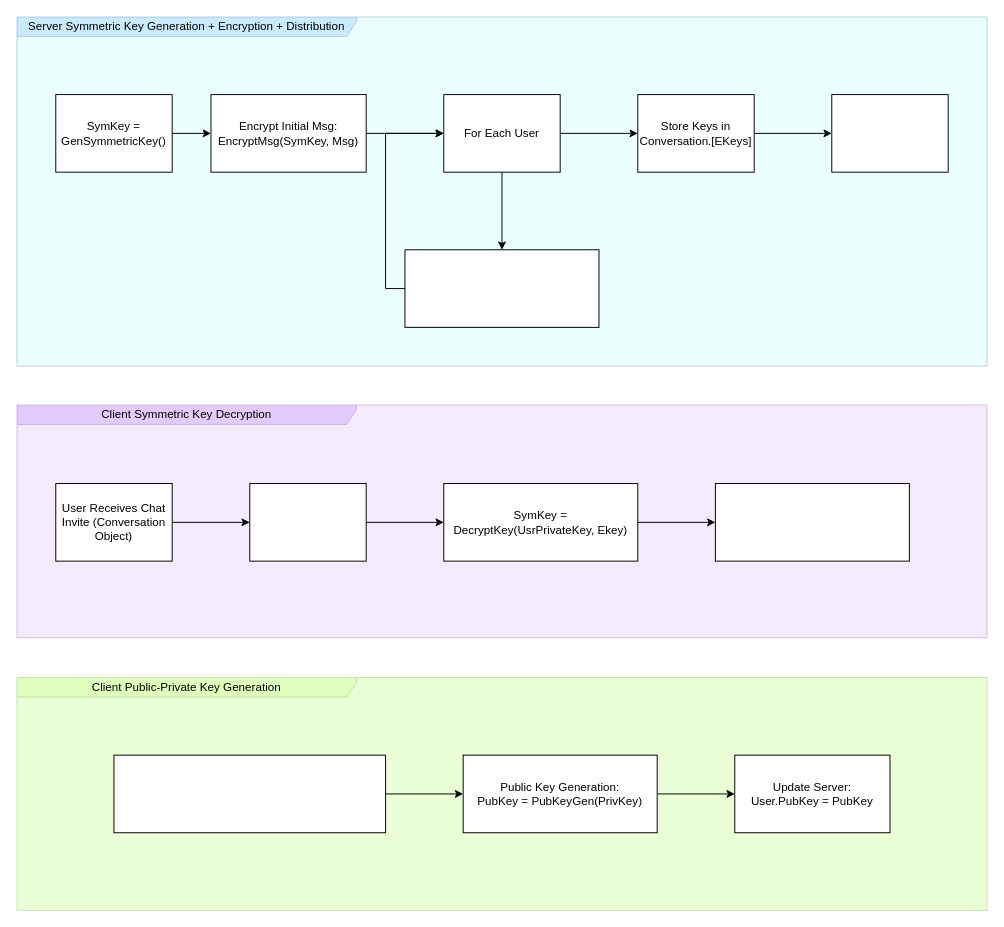
Image size: 1004x927. Some labels were removed from this diagram. The centre of each missing label's shape, as x and y in pixels:
"Decrypt Messages: DecryptMsg(SymKey, Msg)" belongs at point 811,522.
"Distribute Conversation.id to Users" belongs at point 889,133.
"Encrypt Symmetric Key: EncryptKey(UsrPublicKey, SymKey)" belongs at point 501,288.
"Gets EncryptedKey = Conversation.[Ekeys]" belongs at point 307,522.
"User Creates/Changes Private Key with Password: PrivKey = Password" belongs at point 249,793.
